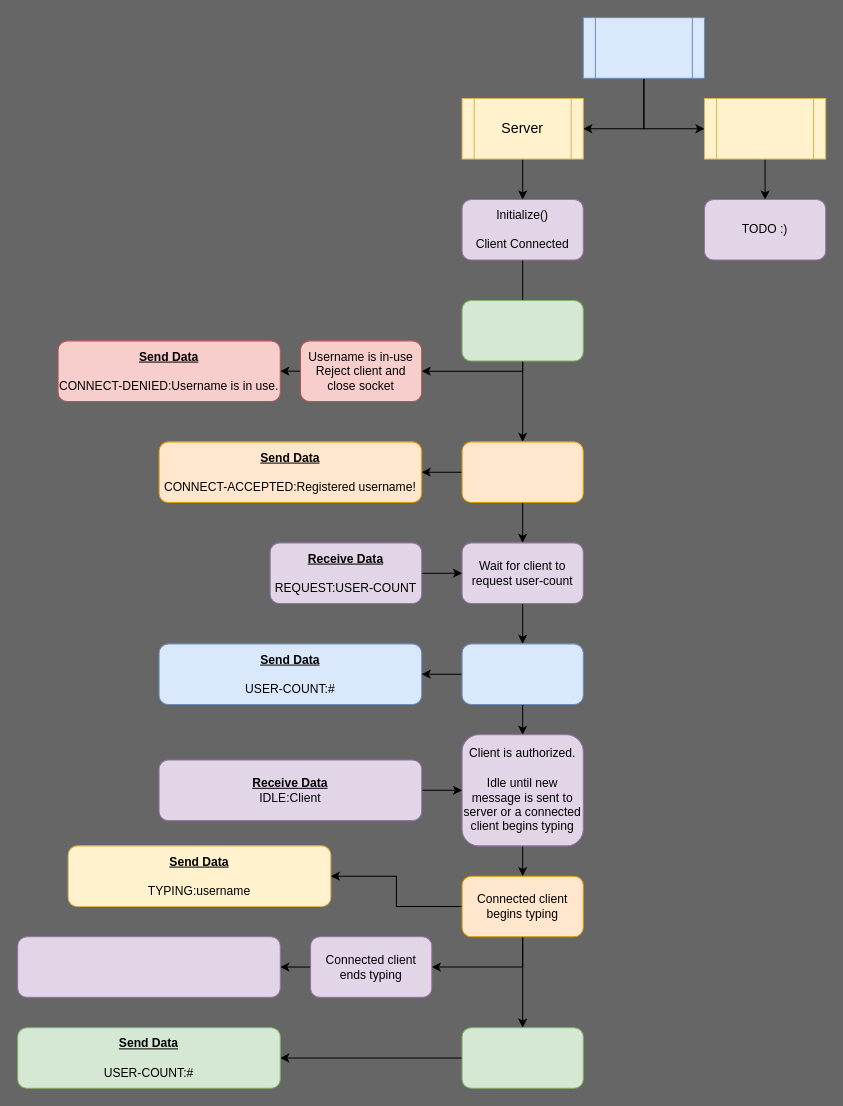
The diagram is 843 pixels wide and 1106 high, and some of its shapes have lost their labels. The box of each missing label's shape, as (x1, y1, x2, y2) in pixels:
Client: (703, 97, 826, 159)
Connected client sends new message: (461, 1027, 583, 1088)
Receive Data USER-COUNT:#: (17, 936, 280, 997)
Send number of connected clients on server to client: (461, 643, 583, 704)
SSLChat: (582, 17, 704, 78)
Username is available Registered client: (461, 441, 583, 502)
Wait for client to send username request: (461, 299, 583, 361)
